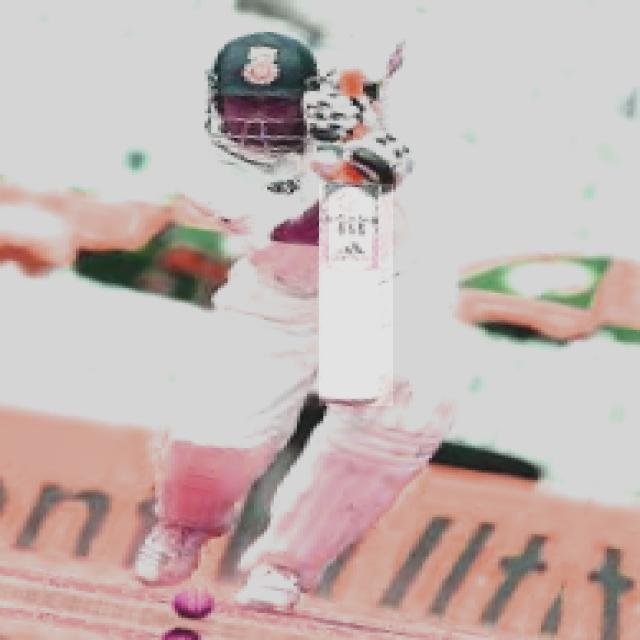bat: (315, 180, 390, 407)
toe: (310, 393, 388, 411)
